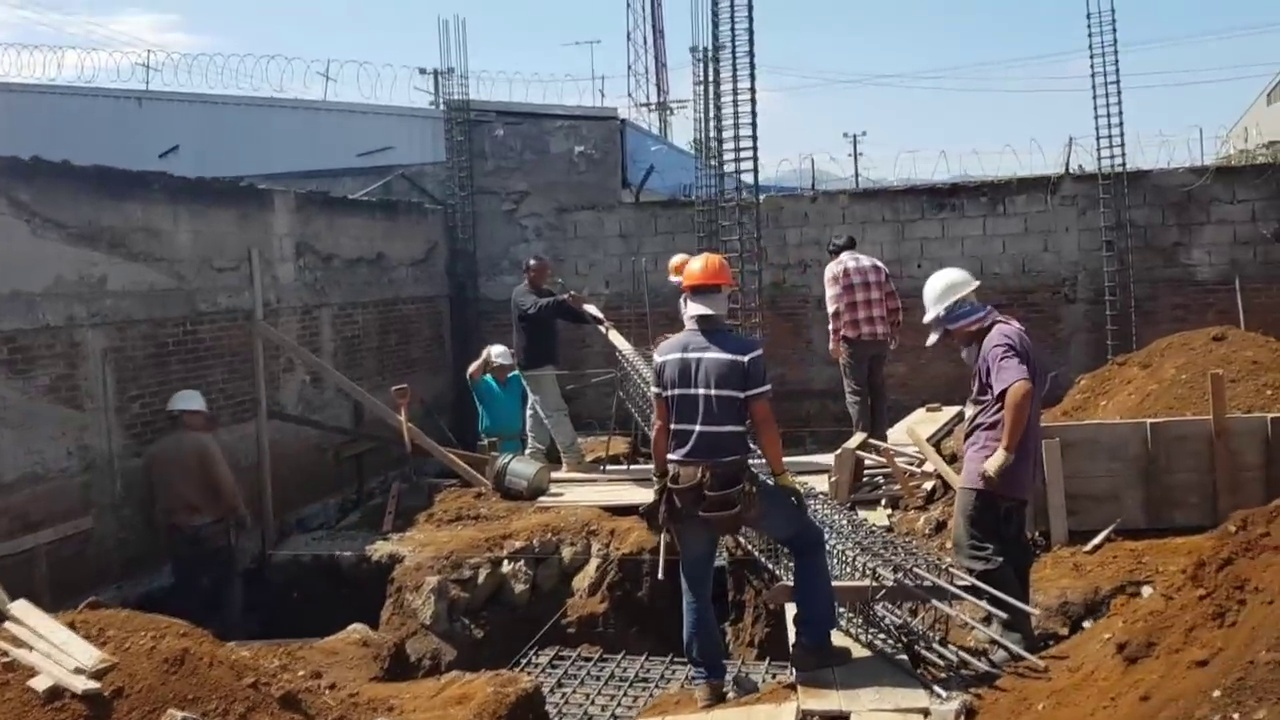helmet: (921, 267, 980, 325), (678, 252, 736, 288), (163, 389, 212, 416), (666, 252, 695, 284), (485, 344, 514, 365)
helmet-off: (523, 254, 550, 294), (825, 234, 859, 263)
helmet-on: (921, 264, 996, 345), (677, 250, 737, 324), (163, 386, 219, 432), (485, 342, 515, 384)
person: (649, 252, 796, 487), (140, 383, 249, 627), (921, 263, 1035, 487), (511, 254, 613, 474), (823, 232, 903, 443), (466, 342, 528, 458)
